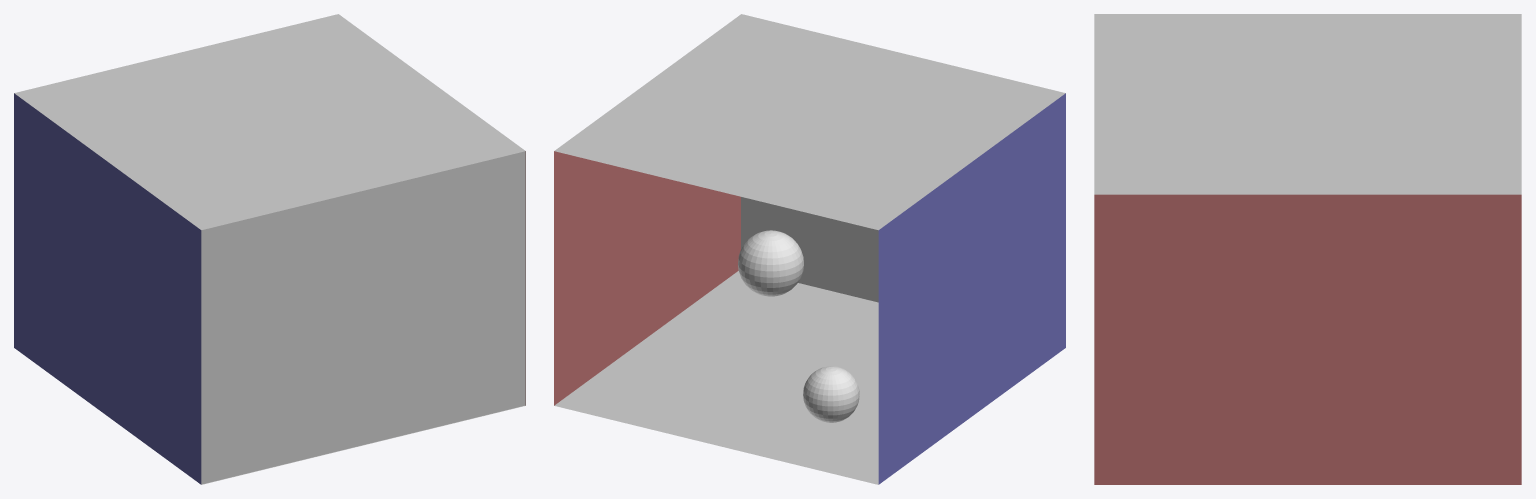
File: deepbox.dae
The picture shows the model from 3 angles, left to right: view 1: azimuth 30°, elevation 25°; view 2: azimuth 150°, elevation 25°; view 3: azimuth 270°, elevation 25°; orthographic projection. The views are drawn at different scales.
Visible parts, largest first — view 1: backWall, ceiling, rightWall; view 2: ceiling, rightWall, floor, leftWall, backWall, Sphere, Sphere_001; view 3: leftWall, ceiling.
Boxes of the visible parts, <box> form: backWall: <box>201,151,525,484</box>; ceiling: <box>14,14,525,230</box>; rightWall: <box>14,93,201,484</box>; ceiling: <box>554,14,1065,230</box>; rightWall: <box>878,93,1065,484</box>; floor: <box>554,271,878,484</box>; leftWall: <box>554,151,740,405</box>; backWall: <box>741,197,878,302</box>; Sphere: <box>738,230,803,296</box>; Sphere_001: <box>803,366,859,422</box>; leftWall: <box>1094,194,1521,484</box>; ceiling: <box>1094,14,1521,194</box>.
Bounding box in the file's own units: 2 × 2 × 1.5.
